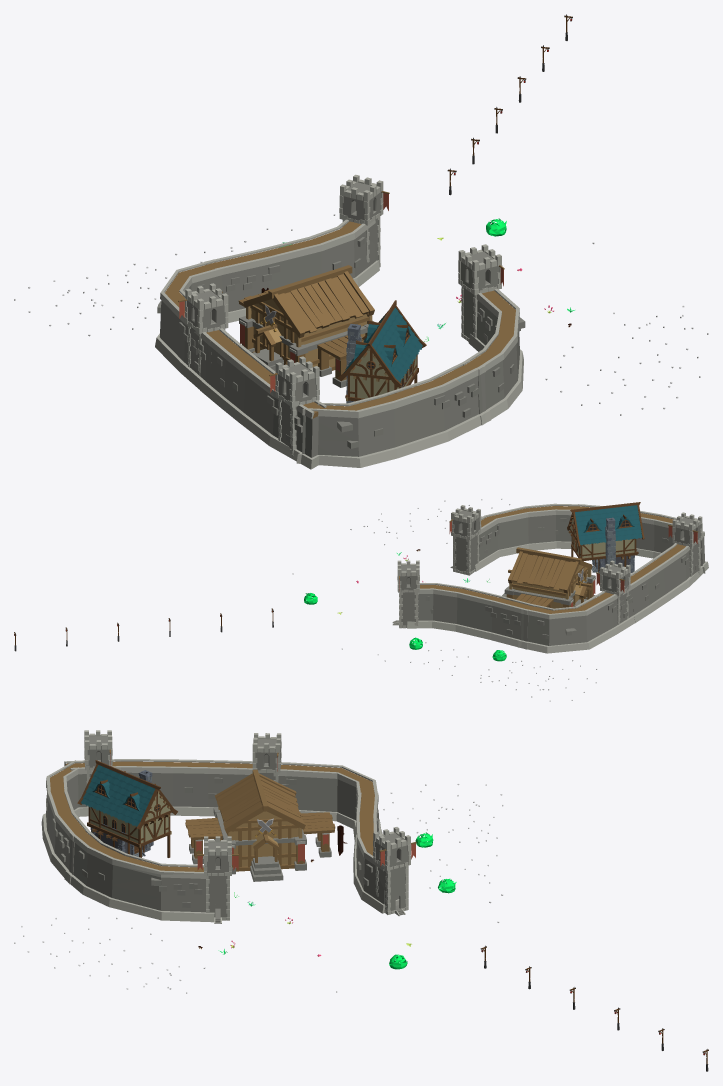
File: chunk_0_0.glb
3 renders of one model, top to bottom at view 1: azimuth 30°, elevation 25°; view 2: azimuth 150°, elevation 25°; view 3: azimuth 270°, elevation 25°, orthographic. The views are drawn at different scales.
Visible parts, largest first — view 1: Wall_SecondAge.002, Barracks_FirstAge_Level2.001, House_2.001, WatchTower_SecondAge_Level2.002, WatchTower_SecondAge_Level2, WatchTower_SecondAge_Level2.001, WatchTower_SecondAge_Level2.003; view 2: Wall_SecondAge.002, Barracks_FirstAge_Level2.001, House_2.001, WatchTower_SecondAge_Level2, WatchTower_SecondAge_Level2.001, WatchTower_SecondAge_Level2.002, WatchTower_SecondAge_Level2.003; view 3: Wall_SecondAge.002, Barracks_FirstAge_Level2.001, House_2.001, WatchTower_SecondAge_Level2.001, WatchTower_SecondAge_Level2, WatchTower_SecondAge_Level2.003, WatchTower_SecondAge_Level2.002.
Part boxes in pixels (left/top/right/bottom): Wall_SecondAge.002: left=155, top=219, right=525, bottom=469; Barracks_FirstAge_Level2.001: left=238, top=265, right=374, bottom=387; House_2.001: left=337, top=300, right=426, bottom=403; WatchTower_SecondAge_Level2.002: left=269, top=356, right=319, bottom=457; WatchTower_SecondAge_Level2: left=458, top=244, right=504, bottom=341; WatchTower_SecondAge_Level2.001: left=339, top=174, right=389, bottom=267; WatchTower_SecondAge_Level2.003: left=178, top=283, right=228, bottom=376; Wall_SecondAge.002: left=407, top=503, right=708, bottom=653; Barracks_FirstAge_Level2.001: left=501, top=547, right=595, bottom=610; House_2.001: left=567, top=502, right=644, bottom=572; WatchTower_SecondAge_Level2: left=449, top=505, right=481, bottom=575; WatchTower_SecondAge_Level2.001: left=392, top=560, right=419, bottom=628; WatchTower_SecondAge_Level2.002: left=668, top=512, right=702, bottom=576; WatchTower_SecondAge_Level2.003: left=596, top=560, right=630, bottom=624; Wall_SecondAge.002: left=41, top=759, right=399, bottom=922; Barracks_FirstAge_Level2.001: left=185, top=769, right=335, bottom=881; House_2.001: left=77, top=760, right=177, bottom=857; WatchTower_SecondAge_Level2.001: left=373, top=827, right=416, bottom=916; WatchTower_SecondAge_Level2: left=197, top=836, right=238, bottom=923; WatchTower_SecondAge_Level2.003: left=252, top=733, right=281, bottom=782; WatchTower_SecondAge_Level2.002: left=84, top=730, right=112, bottom=807.
Bounding box in the file's own units: 110 × 14.07 × 112.
